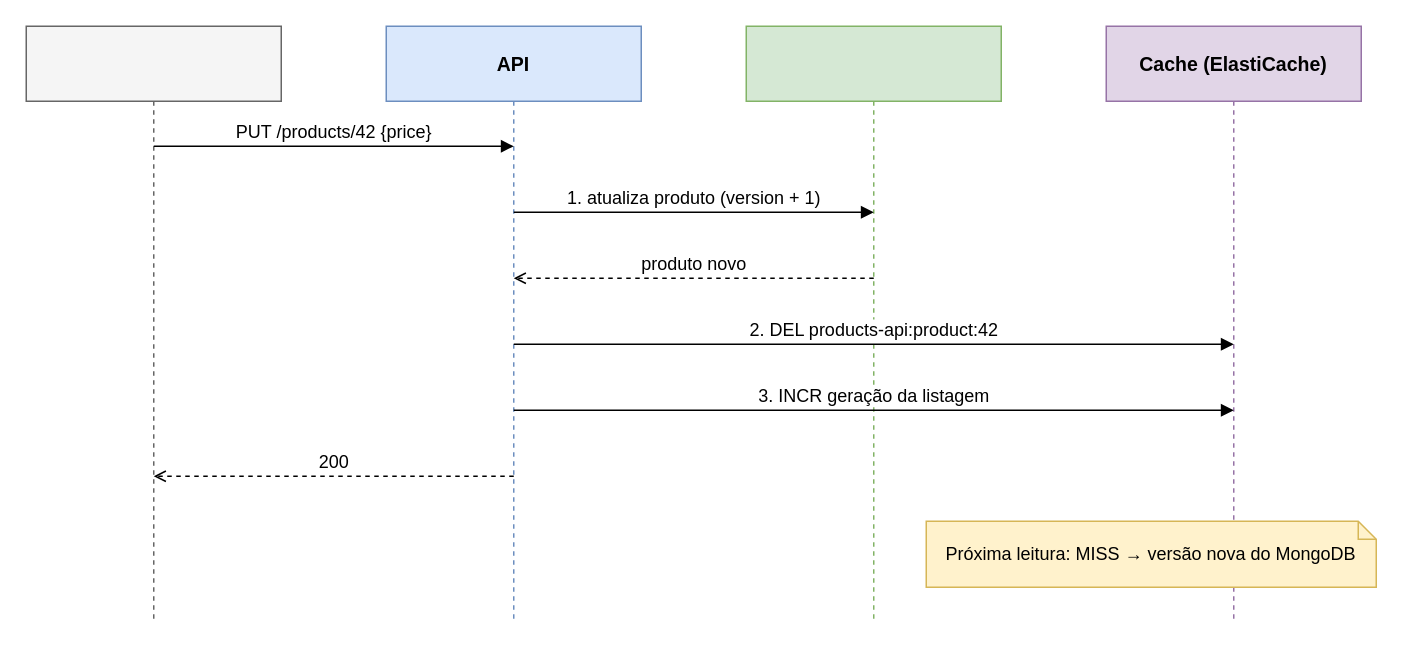
Some shapes in this 1403 by 650 pixel diagram are drawn without their labels. The box of each missing label's shape, as (x1, y1, x2, y2) in pixels:
Cliente: (25, 25, 281, 623)
MongoDB: (745, 25, 1001, 623)
